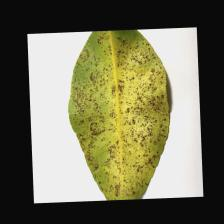canker: (76, 66, 158, 165)
